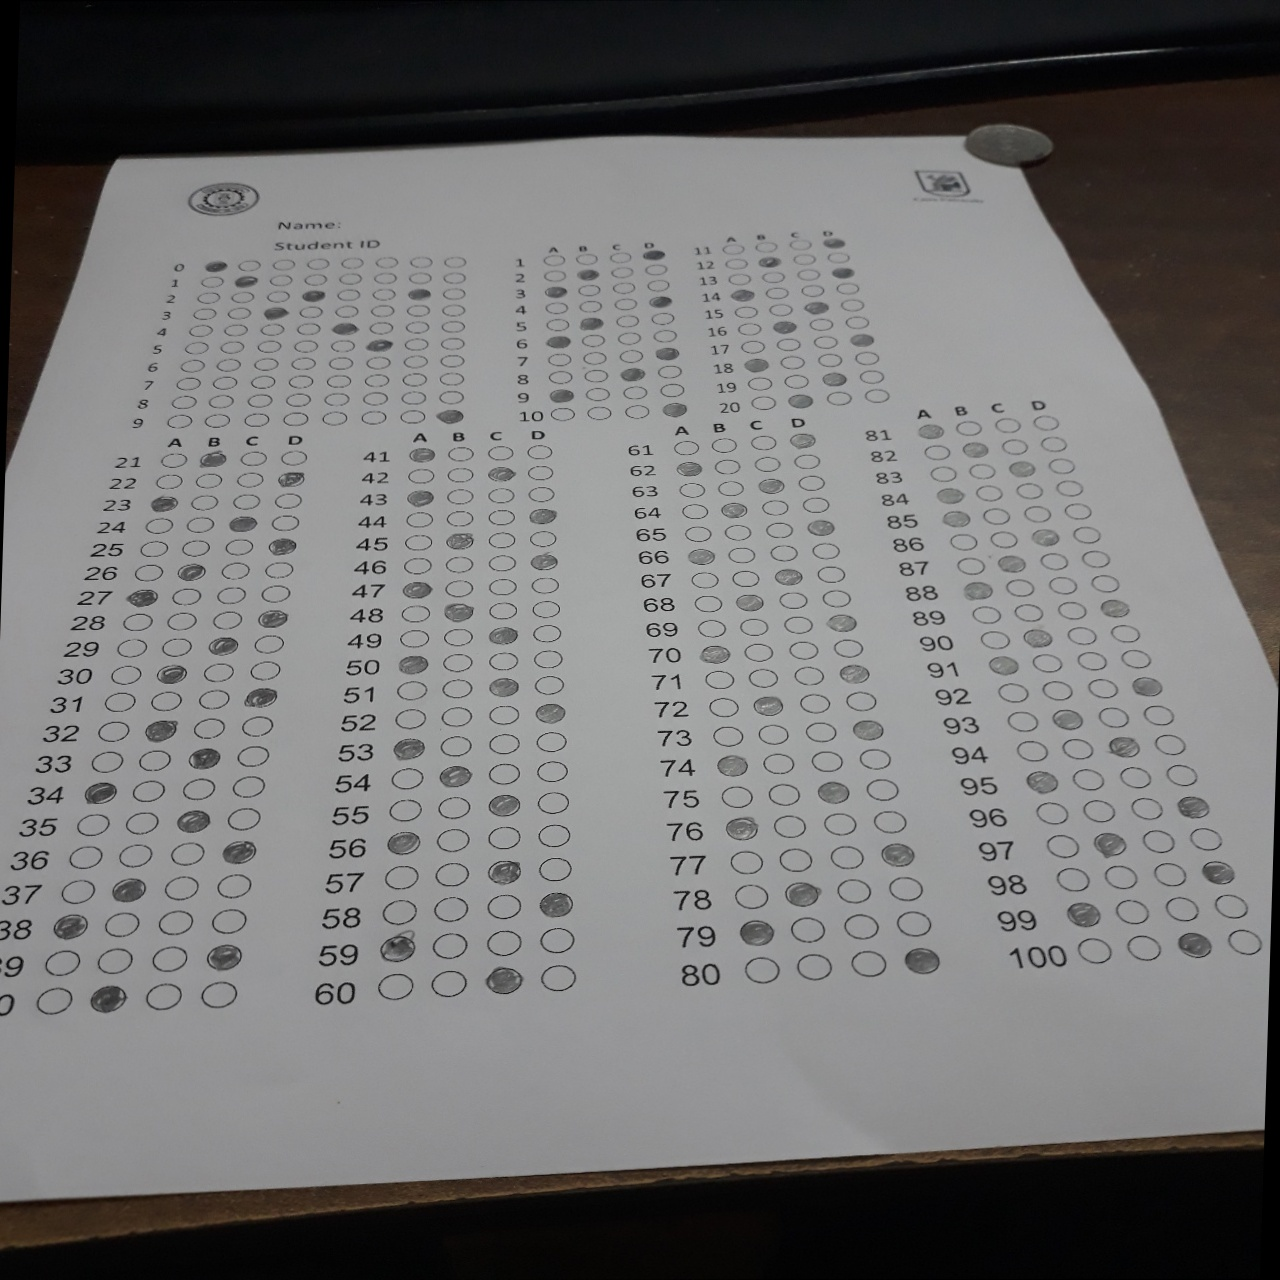not-c: (433, 893, 471, 922), (431, 930, 470, 959), (197, 979, 237, 1007), (143, 983, 184, 1010), (30, 986, 72, 1013), (539, 925, 577, 954), (484, 928, 523, 956), (485, 893, 523, 921), (538, 964, 576, 992), (433, 969, 470, 998), (377, 971, 415, 999), (155, 910, 195, 935), (744, 956, 782, 983), (796, 953, 833, 980), (849, 949, 886, 976), (103, 911, 142, 937), (789, 917, 828, 942), (45, 949, 82, 975), (1078, 937, 1114, 964), (59, 879, 98, 903), (229, 805, 266, 830), (166, 840, 204, 865), (96, 947, 134, 972), (154, 947, 191, 972), (434, 862, 471, 886), (380, 898, 417, 922), (894, 911, 932, 935), (843, 914, 880, 939), (212, 873, 251, 897), (210, 908, 248, 932), (1129, 794, 1165, 818), (1151, 862, 1187, 886), (1104, 864, 1141, 888), (1115, 898, 1151, 922), (1162, 896, 1198, 920), (382, 863, 418, 887), (125, 811, 163, 835), (116, 844, 154, 867), (165, 876, 203, 899), (1227, 928, 1262, 953), (1125, 935, 1160, 960), (1081, 799, 1117, 823), (1046, 833, 1082, 857), (1142, 829, 1178, 852), (1056, 866, 1092, 890), (1213, 894, 1250, 918), (437, 795, 474, 818), (386, 797, 422, 821), (729, 850, 763, 874), (734, 884, 768, 908), (888, 874, 922, 899), (69, 846, 107, 869), (1189, 826, 1224, 850), (435, 829, 470, 852), (488, 824, 523, 847), (537, 823, 572, 846), (872, 811, 907, 835), (128, 779, 166, 801), (486, 761, 520, 784), (535, 790, 568, 813), (837, 879, 871, 903), (234, 745, 272, 767), (229, 776, 266, 797), (181, 778, 217, 799), (77, 813, 114, 835), (535, 758, 568, 781), (538, 857, 572, 879), (865, 777, 899, 799), (768, 782, 802, 804), (719, 784, 753, 806), (772, 815, 806, 837), (831, 846, 865, 869), (779, 849, 812, 871), (1153, 733, 1187, 754), (1119, 765, 1153, 787), (1070, 768, 1104, 789), (823, 813, 857, 835), (791, 666, 826, 686), (1165, 763, 1198, 784), (108, 663, 141, 685), (392, 765, 422, 788), (1141, 704, 1175, 724), (1015, 740, 1049, 760), (1036, 802, 1070, 822), (91, 751, 125, 771), (440, 678, 474, 697), (437, 706, 471, 726), (485, 704, 519, 724), (440, 734, 474, 754), (701, 669, 735, 689), (798, 693, 832, 713), (756, 723, 790, 743), (810, 750, 844, 770), (857, 749, 891, 769), (103, 690, 135, 712), (530, 675, 565, 694), (1076, 651, 1109, 670), (1041, 679, 1074, 699), (1084, 678, 1117, 697), (1060, 738, 1092, 758), (248, 661, 281, 681), (150, 692, 183, 712), (240, 717, 273, 737), (192, 719, 225, 738), (138, 750, 171, 770), (530, 622, 563, 642), (486, 733, 519, 753), (707, 696, 740, 716), (843, 692, 876, 712), (804, 722, 837, 742), (710, 727, 743, 747), (761, 753, 794, 772), (1032, 652, 1065, 670), (396, 680, 430, 699), (393, 709, 427, 728), (745, 667, 779, 686), (162, 636, 193, 656), (204, 662, 236, 682), (198, 689, 230, 709), (96, 721, 128, 741), (996, 682, 1029, 701), (1099, 707, 1132, 726), (1007, 712, 1040, 730), (442, 578, 475, 597), (441, 652, 474, 670), (486, 652, 519, 670), (535, 731, 567, 750), (821, 590, 855, 607), (774, 591, 808, 608), (694, 619, 728, 636), (787, 640, 821, 658), (259, 584, 291, 602), (212, 611, 244, 629), (397, 602, 429, 621), (486, 601, 518, 620), (441, 627, 474, 645), (765, 543, 798, 560), (813, 565, 846, 583), (693, 594, 726, 612), (737, 618, 770, 635), (830, 639, 863, 656), (1006, 577, 1036, 595), (1110, 622, 1141, 641), (399, 628, 429, 647), (726, 545, 760, 561), (1046, 576, 1077, 593), (171, 587, 203, 605), (122, 613, 154, 631), (115, 639, 147, 656), (530, 600, 561, 618), (530, 651, 561, 668), (810, 542, 842, 559), (688, 568, 720, 586), (730, 568, 762, 586), (956, 557, 986, 576), (972, 604, 1001, 622), (980, 629, 1009, 648), (1067, 625, 1096, 644), (782, 617, 815, 633), (742, 644, 775, 660), (1090, 573, 1121, 591), (222, 561, 252, 579), (132, 564, 163, 581), (254, 635, 285, 653), (263, 561, 294, 578), (215, 587, 246, 604), (166, 613, 198, 629), (1039, 551, 1068, 568), (1015, 602, 1044, 620), (1121, 649, 1150, 667), (1032, 413, 1058, 431), (990, 529, 1017, 547), (529, 577, 559, 593), (1073, 524, 1101, 542), (1081, 549, 1109, 566), (993, 415, 1021, 433), (1014, 482, 1042, 499), (1057, 600, 1085, 618), (486, 530, 516, 546), (402, 556, 431, 572), (486, 554, 516, 571), (486, 577, 516, 593), (794, 452, 823, 469), (753, 455, 782, 471), (799, 496, 829, 512), (680, 502, 709, 518), (683, 525, 713, 542), (724, 523, 754, 539), (765, 520, 795, 537), (1040, 434, 1067, 451), (1048, 456, 1075, 474), (969, 463, 996, 481), (983, 508, 1010, 525), (225, 537, 252, 554), (1055, 479, 1083, 496), (954, 418, 982, 435), (973, 484, 1001, 501), (186, 516, 215, 532), (486, 443, 515, 459), (525, 442, 553, 458), (527, 484, 556, 501), (445, 486, 474, 503), (404, 510, 433, 526), (447, 510, 475, 526), (486, 508, 515, 524), (527, 530, 556, 546), (445, 556, 474, 572), (710, 436, 738, 452), (750, 434, 778, 450), (798, 474, 826, 490), (1064, 501, 1090, 518), (407, 467, 436, 482), (714, 459, 743, 475), (676, 481, 706, 496), (715, 481, 744, 496), (922, 443, 949, 459), (930, 464, 956, 481), (1024, 504, 1051, 520), (949, 532, 976, 549), (159, 451, 188, 467), (189, 493, 217, 509), (272, 515, 300, 530), (144, 518, 172, 533), (445, 445, 474, 461), (525, 465, 553, 481), (447, 467, 475, 482), (486, 486, 515, 502), (404, 533, 433, 549), (672, 440, 700, 455), (761, 499, 789, 515), (1001, 437, 1027, 454), (290, 356, 316, 372), (247, 393, 274, 408), (207, 393, 234, 408), (241, 449, 268, 464), (275, 492, 302, 508), (182, 539, 209, 554), (155, 474, 183, 488), (233, 493, 261, 508), (141, 540, 169, 554), (740, 339, 765, 354), (321, 410, 347, 425), (282, 410, 308, 425), (362, 390, 388, 406), (284, 392, 309, 407), (325, 373, 350, 388), (288, 373, 314, 388), (366, 356, 392, 372), (327, 354, 353, 369), (331, 338, 356, 353), (368, 321, 394, 336), (295, 320, 321, 335), (166, 413, 192, 428), (203, 413, 229, 428), (211, 375, 237, 390), (280, 449, 306, 464), (324, 392, 350, 406), (188, 324, 215, 338), (855, 350, 879, 366), (858, 369, 883, 384), (784, 373, 809, 388), (750, 394, 775, 409), (826, 392, 851, 407), (864, 388, 888, 403), (365, 373, 389, 388), (293, 338, 318, 353), (779, 354, 805, 368), (747, 376, 772, 390), (440, 335, 465, 349), (216, 358, 241, 372), (243, 413, 268, 427), (237, 472, 263, 486), (195, 472, 220, 486), (338, 271, 365, 284), (334, 304, 361, 316), (304, 272, 331, 285), (179, 359, 206, 372), (659, 382, 683, 396), (442, 302, 467, 316), (403, 355, 428, 369), (754, 239, 779, 252), (809, 318, 835, 331), (406, 304, 431, 316), (369, 304, 395, 316), (372, 271, 397, 284), (339, 257, 365, 270), (298, 305, 324, 318), (237, 259, 263, 272), (230, 290, 256, 302), (223, 324, 248, 336), (253, 359, 279, 372), (170, 396, 196, 409), (818, 353, 842, 367), (622, 384, 646, 399), (406, 319, 429, 333), (402, 372, 425, 386), (401, 408, 424, 422), (768, 302, 792, 315), (775, 338, 799, 350), (610, 250, 634, 263), (543, 268, 567, 281), (577, 282, 601, 295), (617, 331, 641, 343), (658, 365, 682, 377), (624, 404, 648, 417), (441, 319, 465, 332), (441, 353, 465, 366), (438, 390, 463, 403), (408, 256, 433, 268), (408, 271, 433, 284), (401, 392, 425, 404), (372, 286, 396, 299), (374, 256, 399, 268), (306, 257, 331, 270), (336, 290, 361, 302), (272, 257, 297, 270), (199, 274, 224, 287), (268, 274, 293, 287), (266, 290, 291, 302), (197, 291, 222, 304), (225, 306, 250, 319), (193, 306, 218, 319), (260, 322, 285, 335), (256, 340, 280, 353), (219, 340, 244, 353), (183, 341, 207, 354), (251, 375, 275, 388), (176, 376, 200, 389), (444, 254, 467, 268), (788, 238, 813, 250), (722, 243, 745, 256), (801, 282, 824, 295), (733, 306, 758, 318), (546, 318, 570, 331), (583, 350, 606, 363), (586, 406, 610, 418), (551, 407, 574, 420), (442, 270, 465, 282), (443, 287, 467, 300), (440, 372, 463, 384), (404, 338, 428, 350), (361, 410, 384, 423), (796, 267, 821, 279), (762, 271, 787, 282), (727, 273, 751, 285), (738, 322, 763, 334), (846, 316, 871, 328), (813, 336, 838, 348), (610, 266, 634, 278), (646, 279, 670, 291), (578, 300, 602, 312), (544, 301, 568, 313), (651, 312, 675, 324), (653, 329, 678, 341), (581, 333, 606, 345), (619, 349, 644, 361), (585, 388, 610, 400), (726, 257, 748, 270), (791, 252, 815, 264), (836, 282, 859, 294), (840, 299, 864, 311), (644, 263, 667, 274), (544, 253, 567, 265), (612, 281, 635, 293), (614, 298, 638, 309), (547, 354, 571, 366), (583, 369, 606, 381), (549, 370, 572, 382), (765, 287, 788, 299), (576, 251, 598, 263), (617, 314, 639, 326), (826, 252, 850, 263)
taken-c: (535, 890, 577, 915), (779, 880, 819, 907), (377, 935, 418, 961), (1176, 930, 1213, 958), (904, 946, 942, 973), (737, 920, 777, 946), (485, 967, 526, 992), (222, 839, 257, 866), (113, 877, 148, 904), (53, 912, 88, 939), (184, 745, 222, 770), (207, 944, 241, 971), (176, 809, 211, 835), (90, 986, 125, 1012), (878, 843, 914, 866), (1175, 794, 1208, 818), (1092, 832, 1128, 856), (1065, 903, 1101, 926), (486, 794, 523, 816), (382, 831, 418, 853), (1023, 770, 1057, 794), (813, 782, 851, 803), (724, 817, 760, 839), (84, 782, 120, 804), (485, 862, 522, 883), (1201, 862, 1235, 884), (531, 702, 565, 724), (142, 720, 176, 742), (1051, 707, 1083, 730), (1107, 735, 1138, 758), (395, 653, 429, 674), (485, 676, 519, 697), (437, 765, 471, 787), (753, 695, 785, 716), (443, 601, 476, 622), (485, 624, 518, 645), (390, 737, 423, 758), (257, 608, 291, 628), (243, 687, 277, 707), (1130, 676, 1162, 697), (838, 663, 870, 685), (717, 754, 749, 775), (156, 663, 188, 685), (124, 587, 157, 607), (209, 636, 241, 656), (851, 721, 881, 742), (962, 580, 993, 600), (699, 644, 730, 662), (406, 488, 435, 508), (1006, 459, 1036, 478), (1099, 599, 1130, 618), (826, 613, 857, 632), (486, 463, 517, 482), (527, 551, 558, 570), (401, 579, 431, 598), (1022, 626, 1051, 645), (988, 656, 1017, 675), (444, 530, 474, 549), (915, 422, 946, 440), (529, 506, 558, 524), (933, 486, 964, 503), (149, 495, 179, 511), (545, 388, 576, 404), (572, 266, 602, 282), (1032, 527, 1060, 545), (719, 502, 747, 519), (177, 564, 205, 581), (200, 257, 229, 274), (302, 285, 331, 302), (435, 407, 463, 424), (961, 441, 990, 457), (674, 459, 703, 476), (408, 445, 437, 462), (198, 451, 227, 468), (263, 304, 292, 320), (545, 334, 574, 350), (618, 366, 647, 382), (741, 356, 770, 373), (787, 394, 816, 410), (802, 298, 831, 314), (844, 331, 873, 347), (829, 266, 858, 282), (331, 319, 358, 336), (804, 520, 835, 536), (685, 549, 715, 564), (817, 234, 847, 250), (998, 554, 1026, 571), (789, 433, 817, 449), (756, 477, 784, 493), (229, 515, 257, 531), (577, 314, 605, 331), (661, 402, 689, 418), (654, 345, 682, 361), (640, 246, 668, 263), (769, 318, 797, 334), (756, 252, 784, 268), (941, 512, 971, 527), (774, 568, 803, 584), (402, 287, 431, 302), (647, 294, 676, 309), (728, 287, 757, 302), (365, 338, 392, 354), (542, 284, 568, 300), (733, 594, 761, 610), (277, 471, 305, 486), (268, 539, 297, 554), (232, 274, 260, 290), (818, 370, 846, 386)
